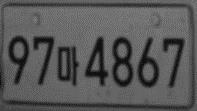4: (83, 35, 109, 87)
6: (136, 36, 160, 87)
7: (32, 34, 55, 85), (162, 37, 185, 87)
8: (109, 36, 134, 87)
9: (6, 34, 30, 85)
마: (56, 45, 80, 86)
